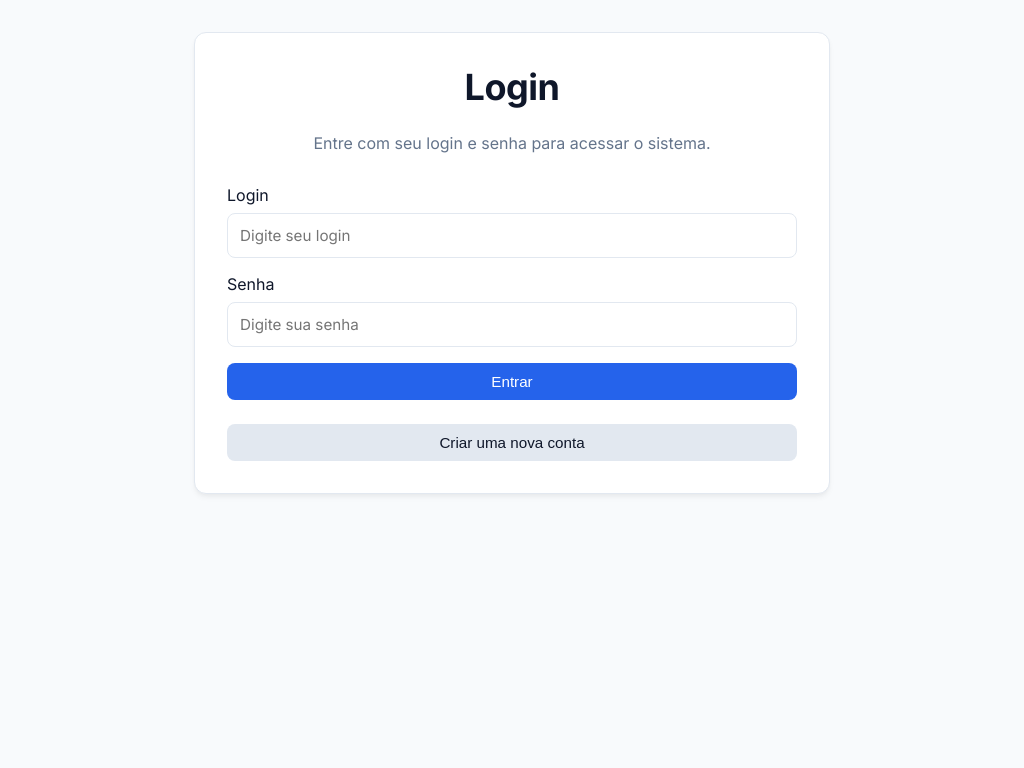
Test: E2E 1 - Login com sucesso › deve autenticar e redirecionar para a Home após login válido
The image size is (1024, 768).
Type "admin" into the field with placeholder "Digite seu login" at (512, 236), box [227,213,797,258]
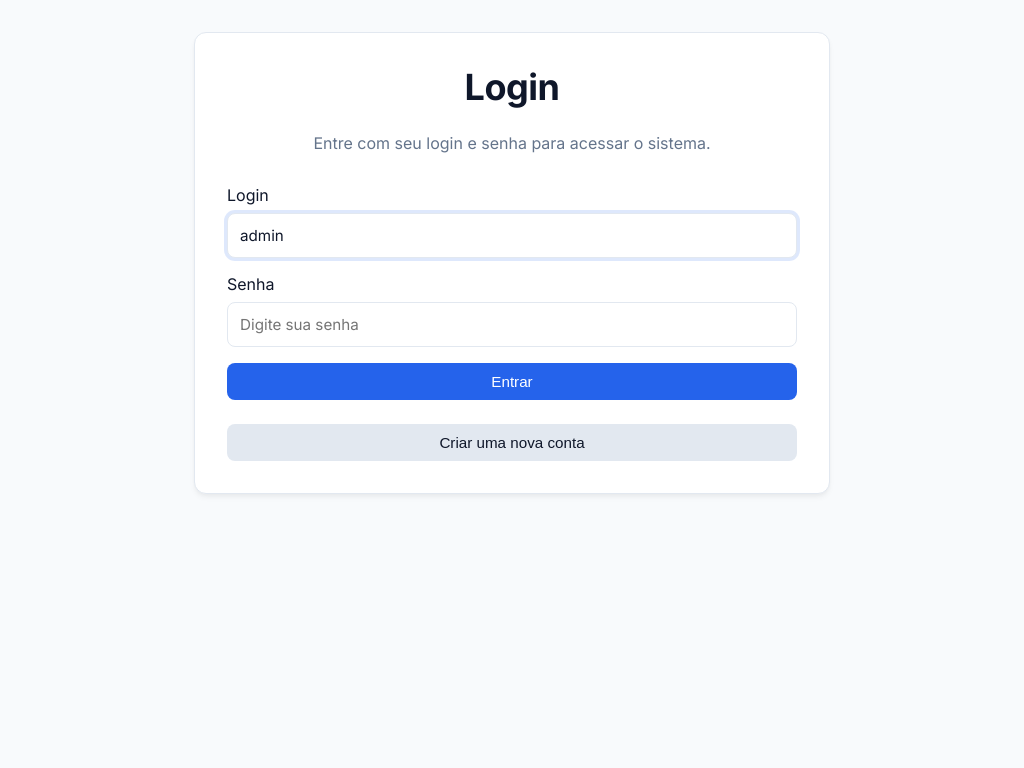
Type "admin123" into the password field with placeholder "Digite sua senha" at (512, 325), box [227,302,797,347]
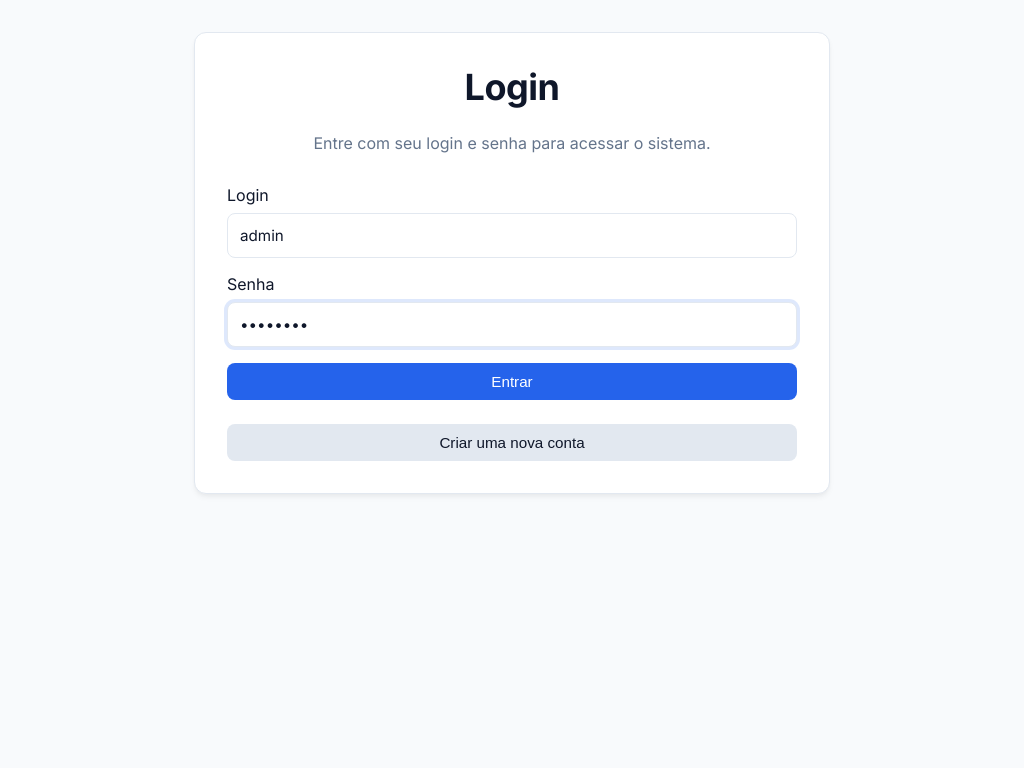
Click the submit button at (512, 382), box [227,363,797,400]
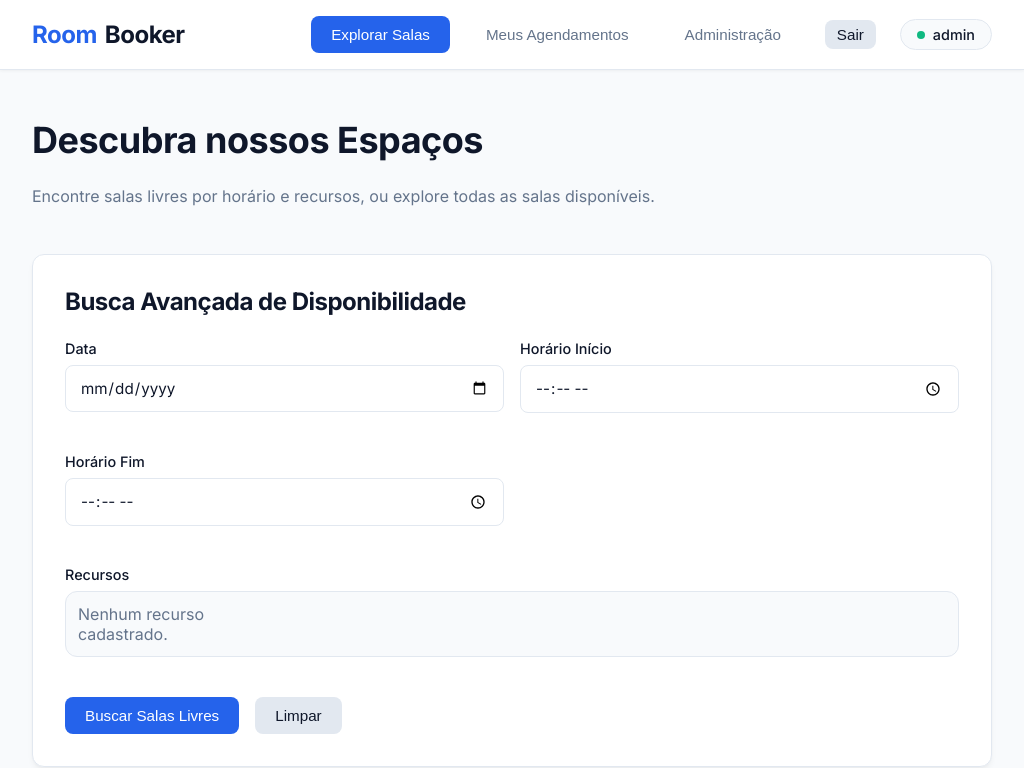
Expected: the navigation bar is shown, [0,0,1023,70]
